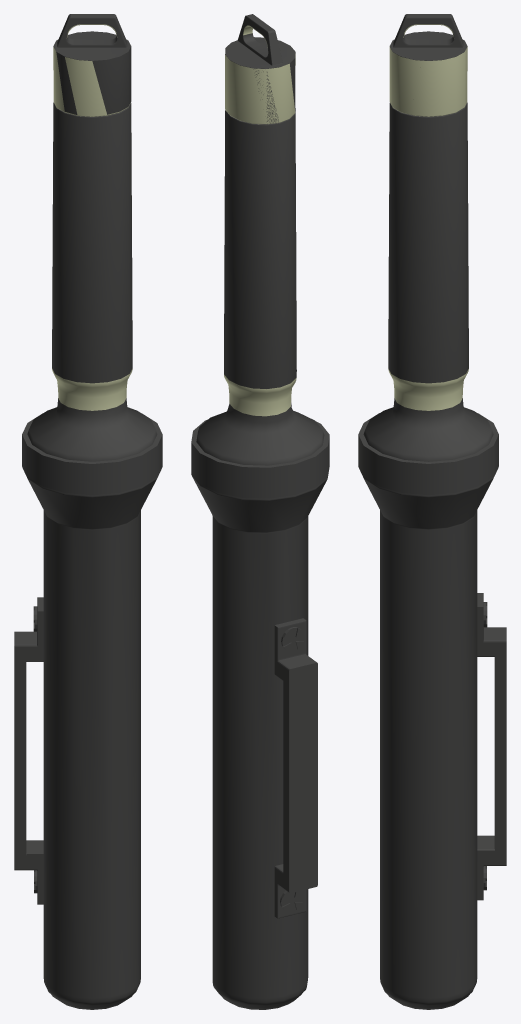
Rendered from jagdkommando.fbx.
The picture shows the model from 3 angles, left to right: view 1: azimuth 90°, elevation 25°; view 2: azimuth 210°, elevation 25°; view 3: azimuth 270°, elevation 25°; orthographic projection.
Visible parts, largest first — view 1: jagdkommando case, jagdkommando knife.001; view 2: jagdkommando case, jagdkommando knife.001; view 3: jagdkommando case, jagdkommando knife.001.
Part boxes in pixels (x1,y1,x2,y2): jagdkommando case: (14,14,162,1009); jagdkommando knife.001: (52,24,132,410); jagdkommando case: (191,14,329,1009); jagdkommando knife.001: (224,25,296,416); jagdkommando case: (358,14,506,1009); jagdkommando knife.001: (388,24,468,410).
Bounding box in the file's own units: 0.1228 × 0.9486 × 0.1295.
